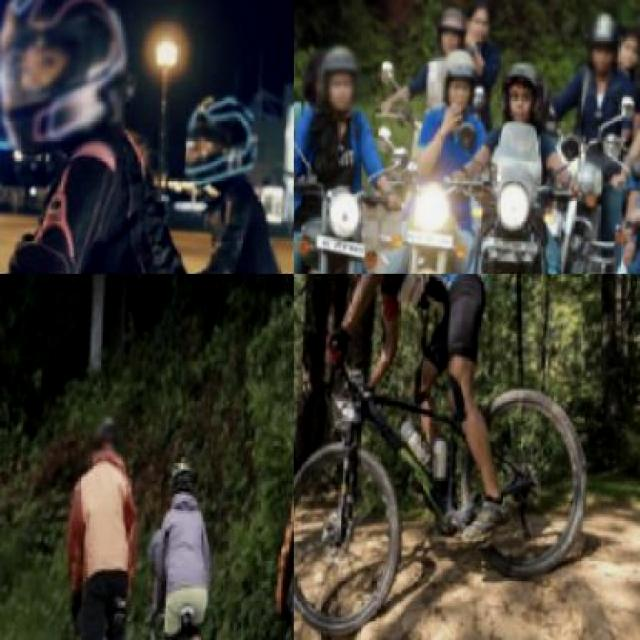With Helmet: (0, 0, 144, 158), (189, 78, 269, 180), (497, 46, 554, 126), (577, 0, 634, 77), (318, 36, 372, 112), (436, 36, 486, 116), (86, 394, 134, 455), (166, 440, 211, 500), (437, 0, 474, 55), (618, 8, 638, 58)
Without Helmet: (468, 0, 500, 42)
